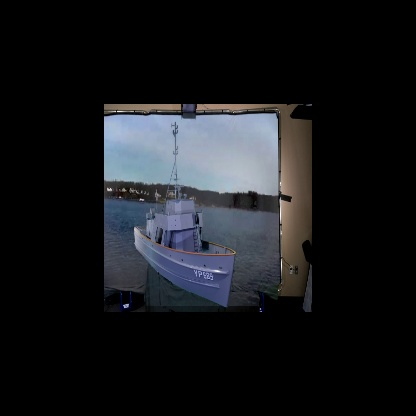YP689: (135, 121, 236, 306)
